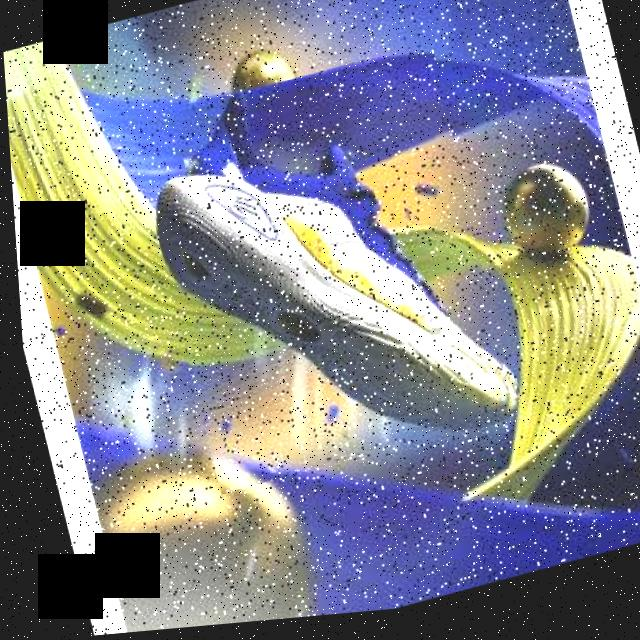shoe: (125, 45, 519, 503)
